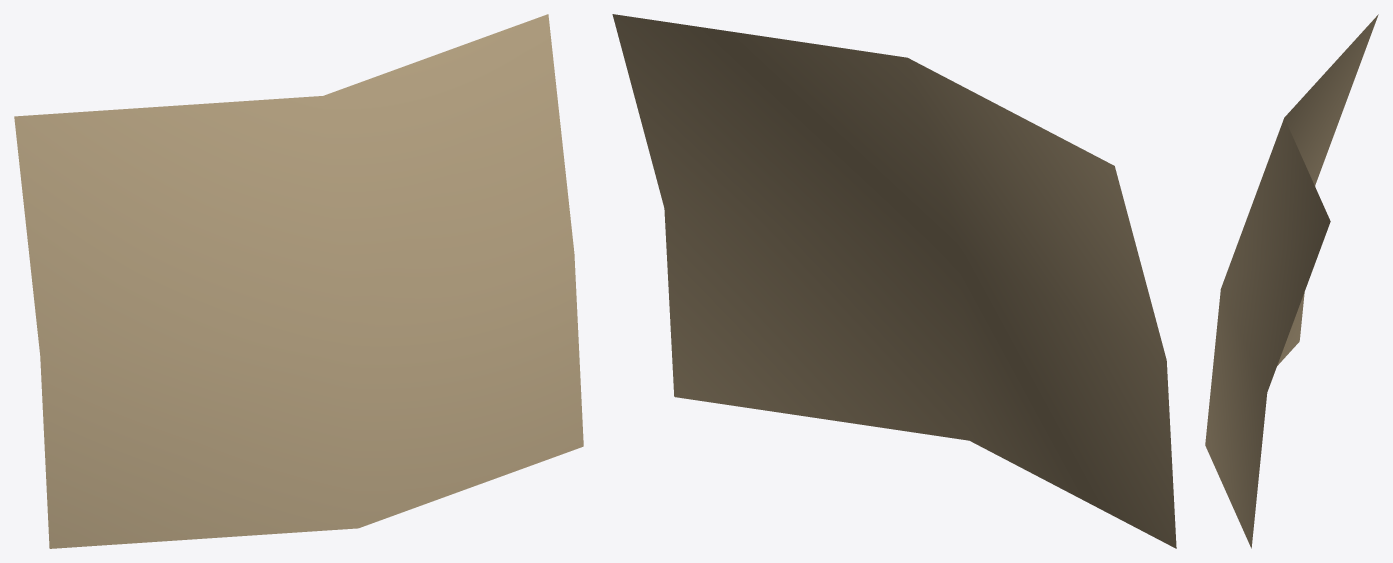
The model's file is GrassPlane_b_TwoS_02.fbx.
3 renders of one model, left to right at view 1: azimuth 30°, elevation 25°; view 2: azimuth 150°, elevation 25°; view 3: azimuth 270°, elevation 25°, orthographic. The views are drawn at different scales.
Visible parts, largest first — view 1: GrassPlane_b_TwoS_02; view 2: GrassPlane_b_TwoS_02; view 3: GrassPlane_b_TwoS_02.
Boxes of the visible parts, x1,y1,x2,y2 form: GrassPlane_b_TwoS_02: (14, 14, 583, 548); GrassPlane_b_TwoS_02: (612, 14, 1176, 548); GrassPlane_b_TwoS_02: (1205, 14, 1378, 548).
Size of the model in its own units: 90.39 by 66 by 31.25.
